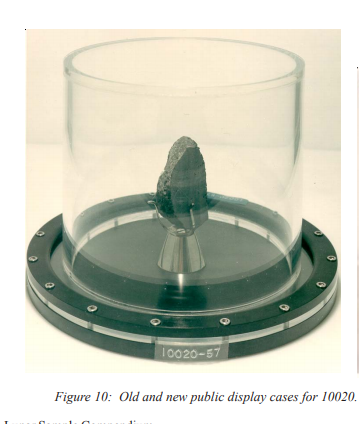Basalt: (140, 123, 244, 247)
